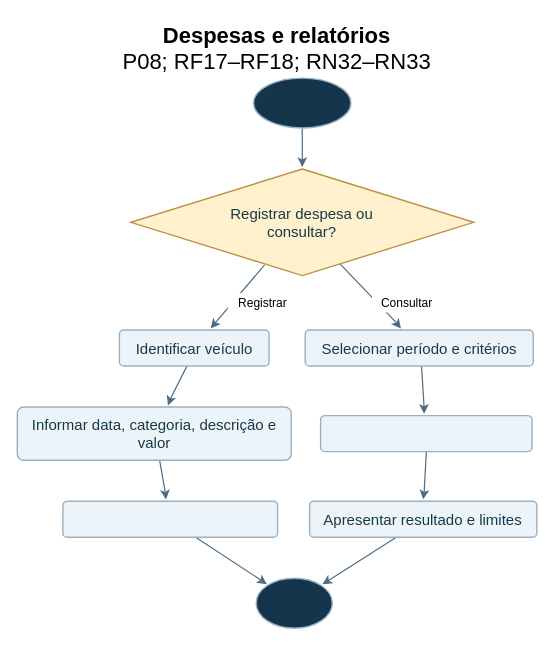
This 555x646 diagram has some shape labels left out. Here are the shapes that lost their labels. From the top down, the centre of each, then its label:
point (301, 102): Início
point (425, 433): Consultar dados do escopo
point (170, 518): Conferir e registrar despesa
point (293, 602): Fim
